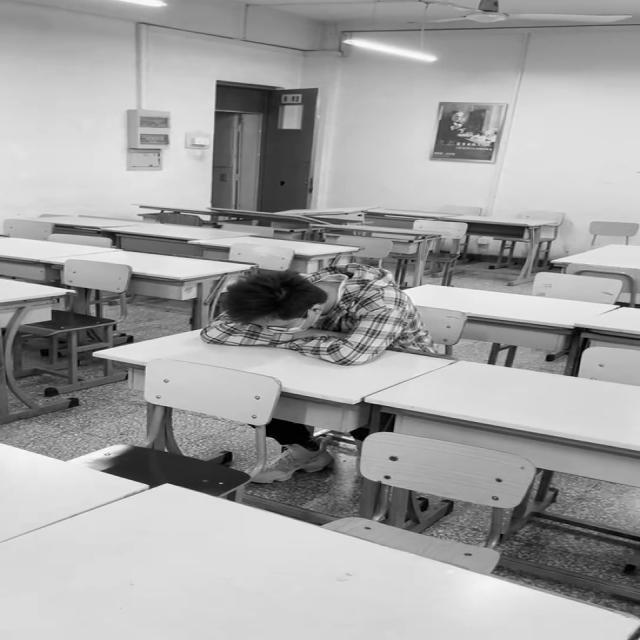sleep: (193, 262, 425, 365)
